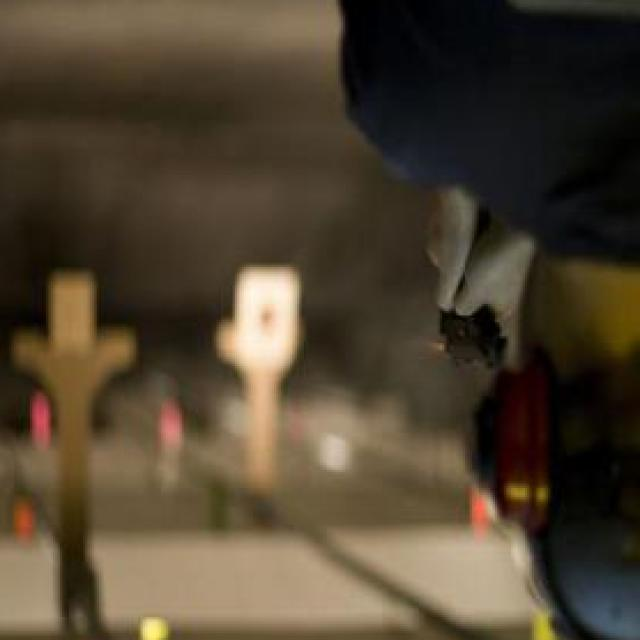pistol: (438, 200, 508, 368)
